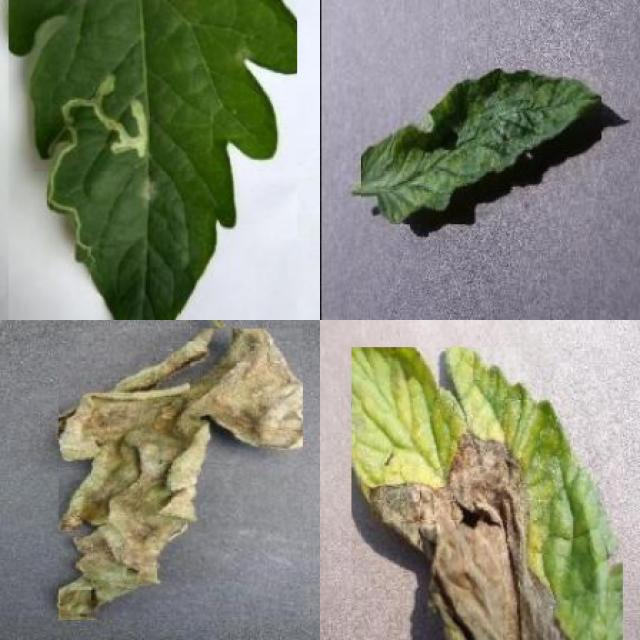Late Blight: (352, 347, 622, 640), (58, 328, 303, 620)
Leaf Miner: (9, 0, 297, 320)
Mosaic Virus: (360, 69, 601, 224)
